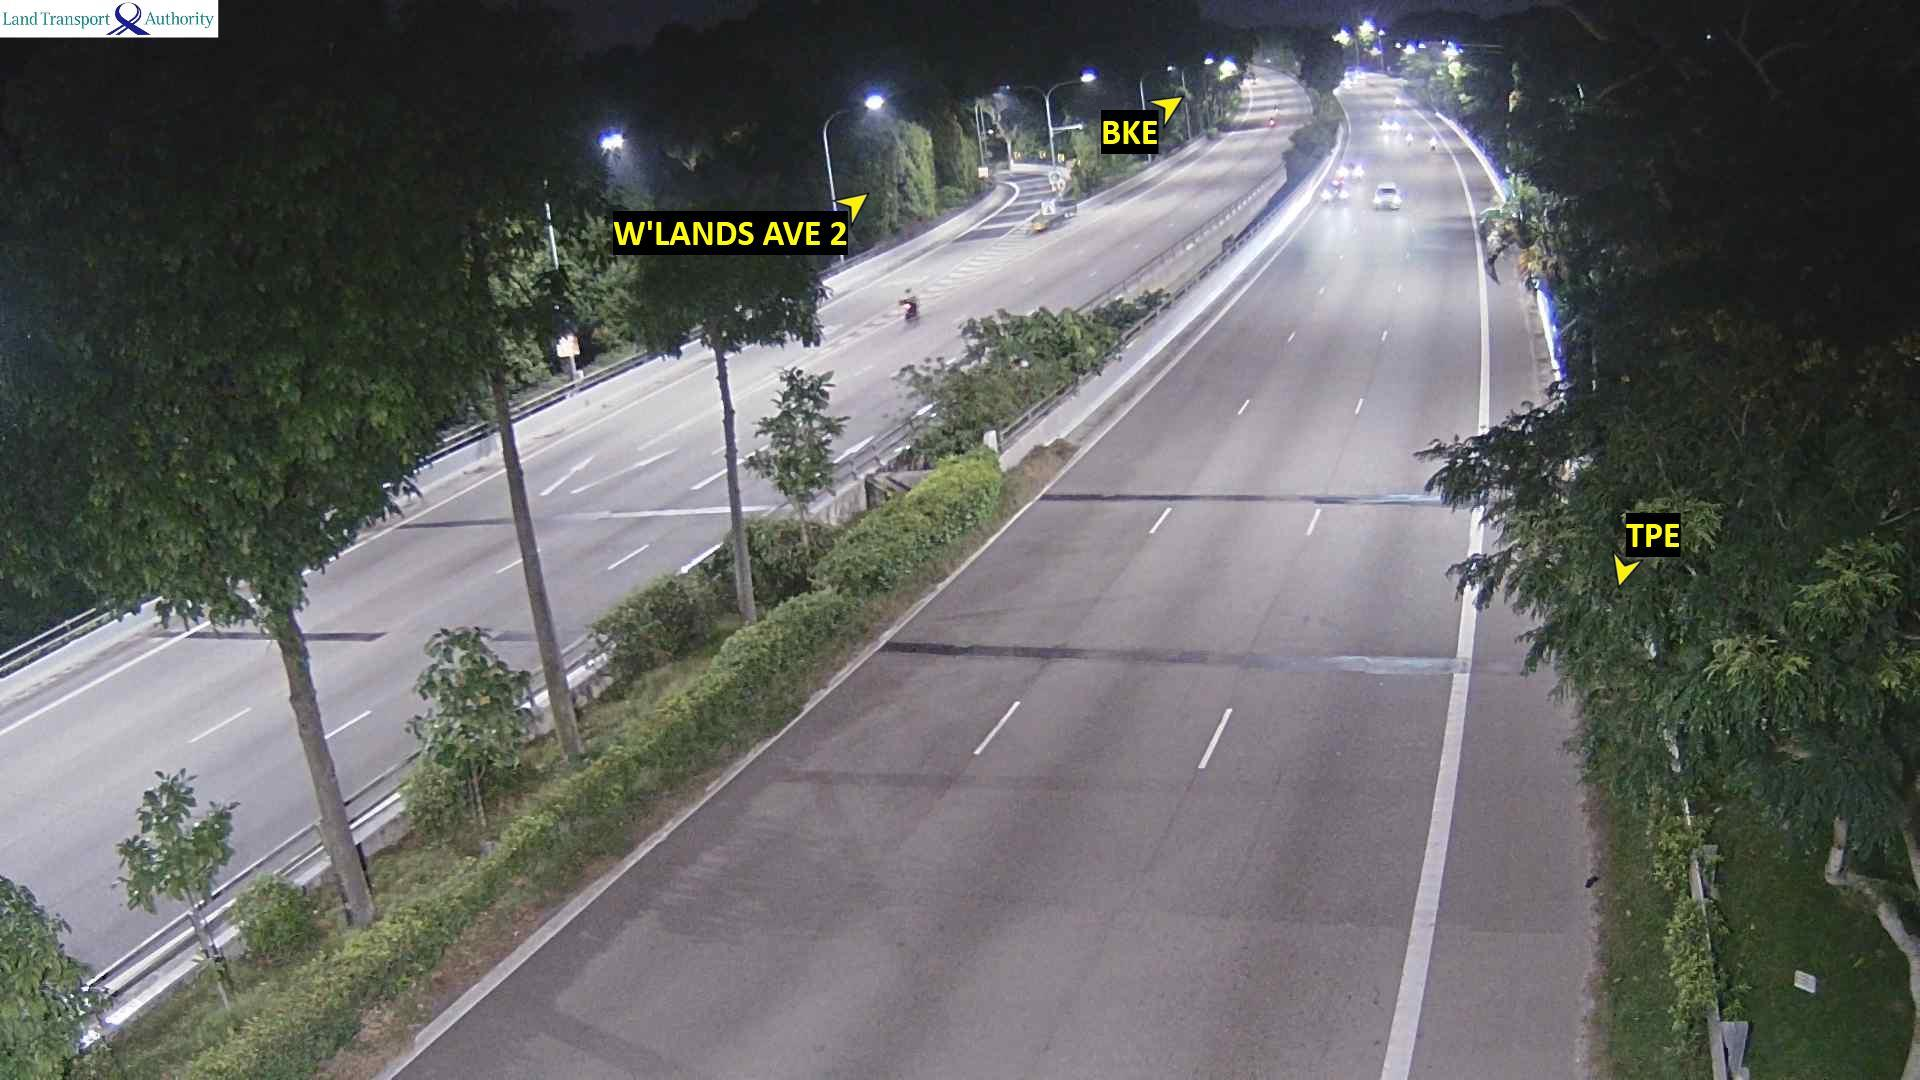cars: (1321, 160, 1363, 203), (1371, 180, 1402, 209), (1321, 177, 1346, 203), (1378, 115, 1401, 132), (1345, 160, 1363, 180), (1266, 114, 1277, 127), (1403, 131, 1414, 144)
motorcycle: (898, 289, 918, 321)
